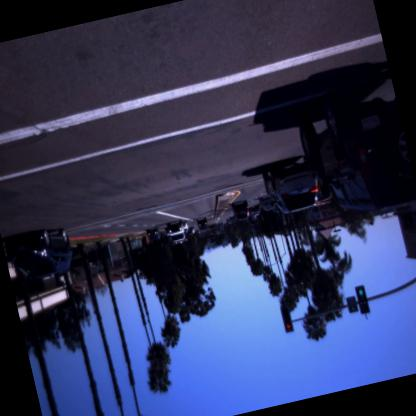trafficlight: (277, 300, 297, 336), (355, 282, 373, 316)
